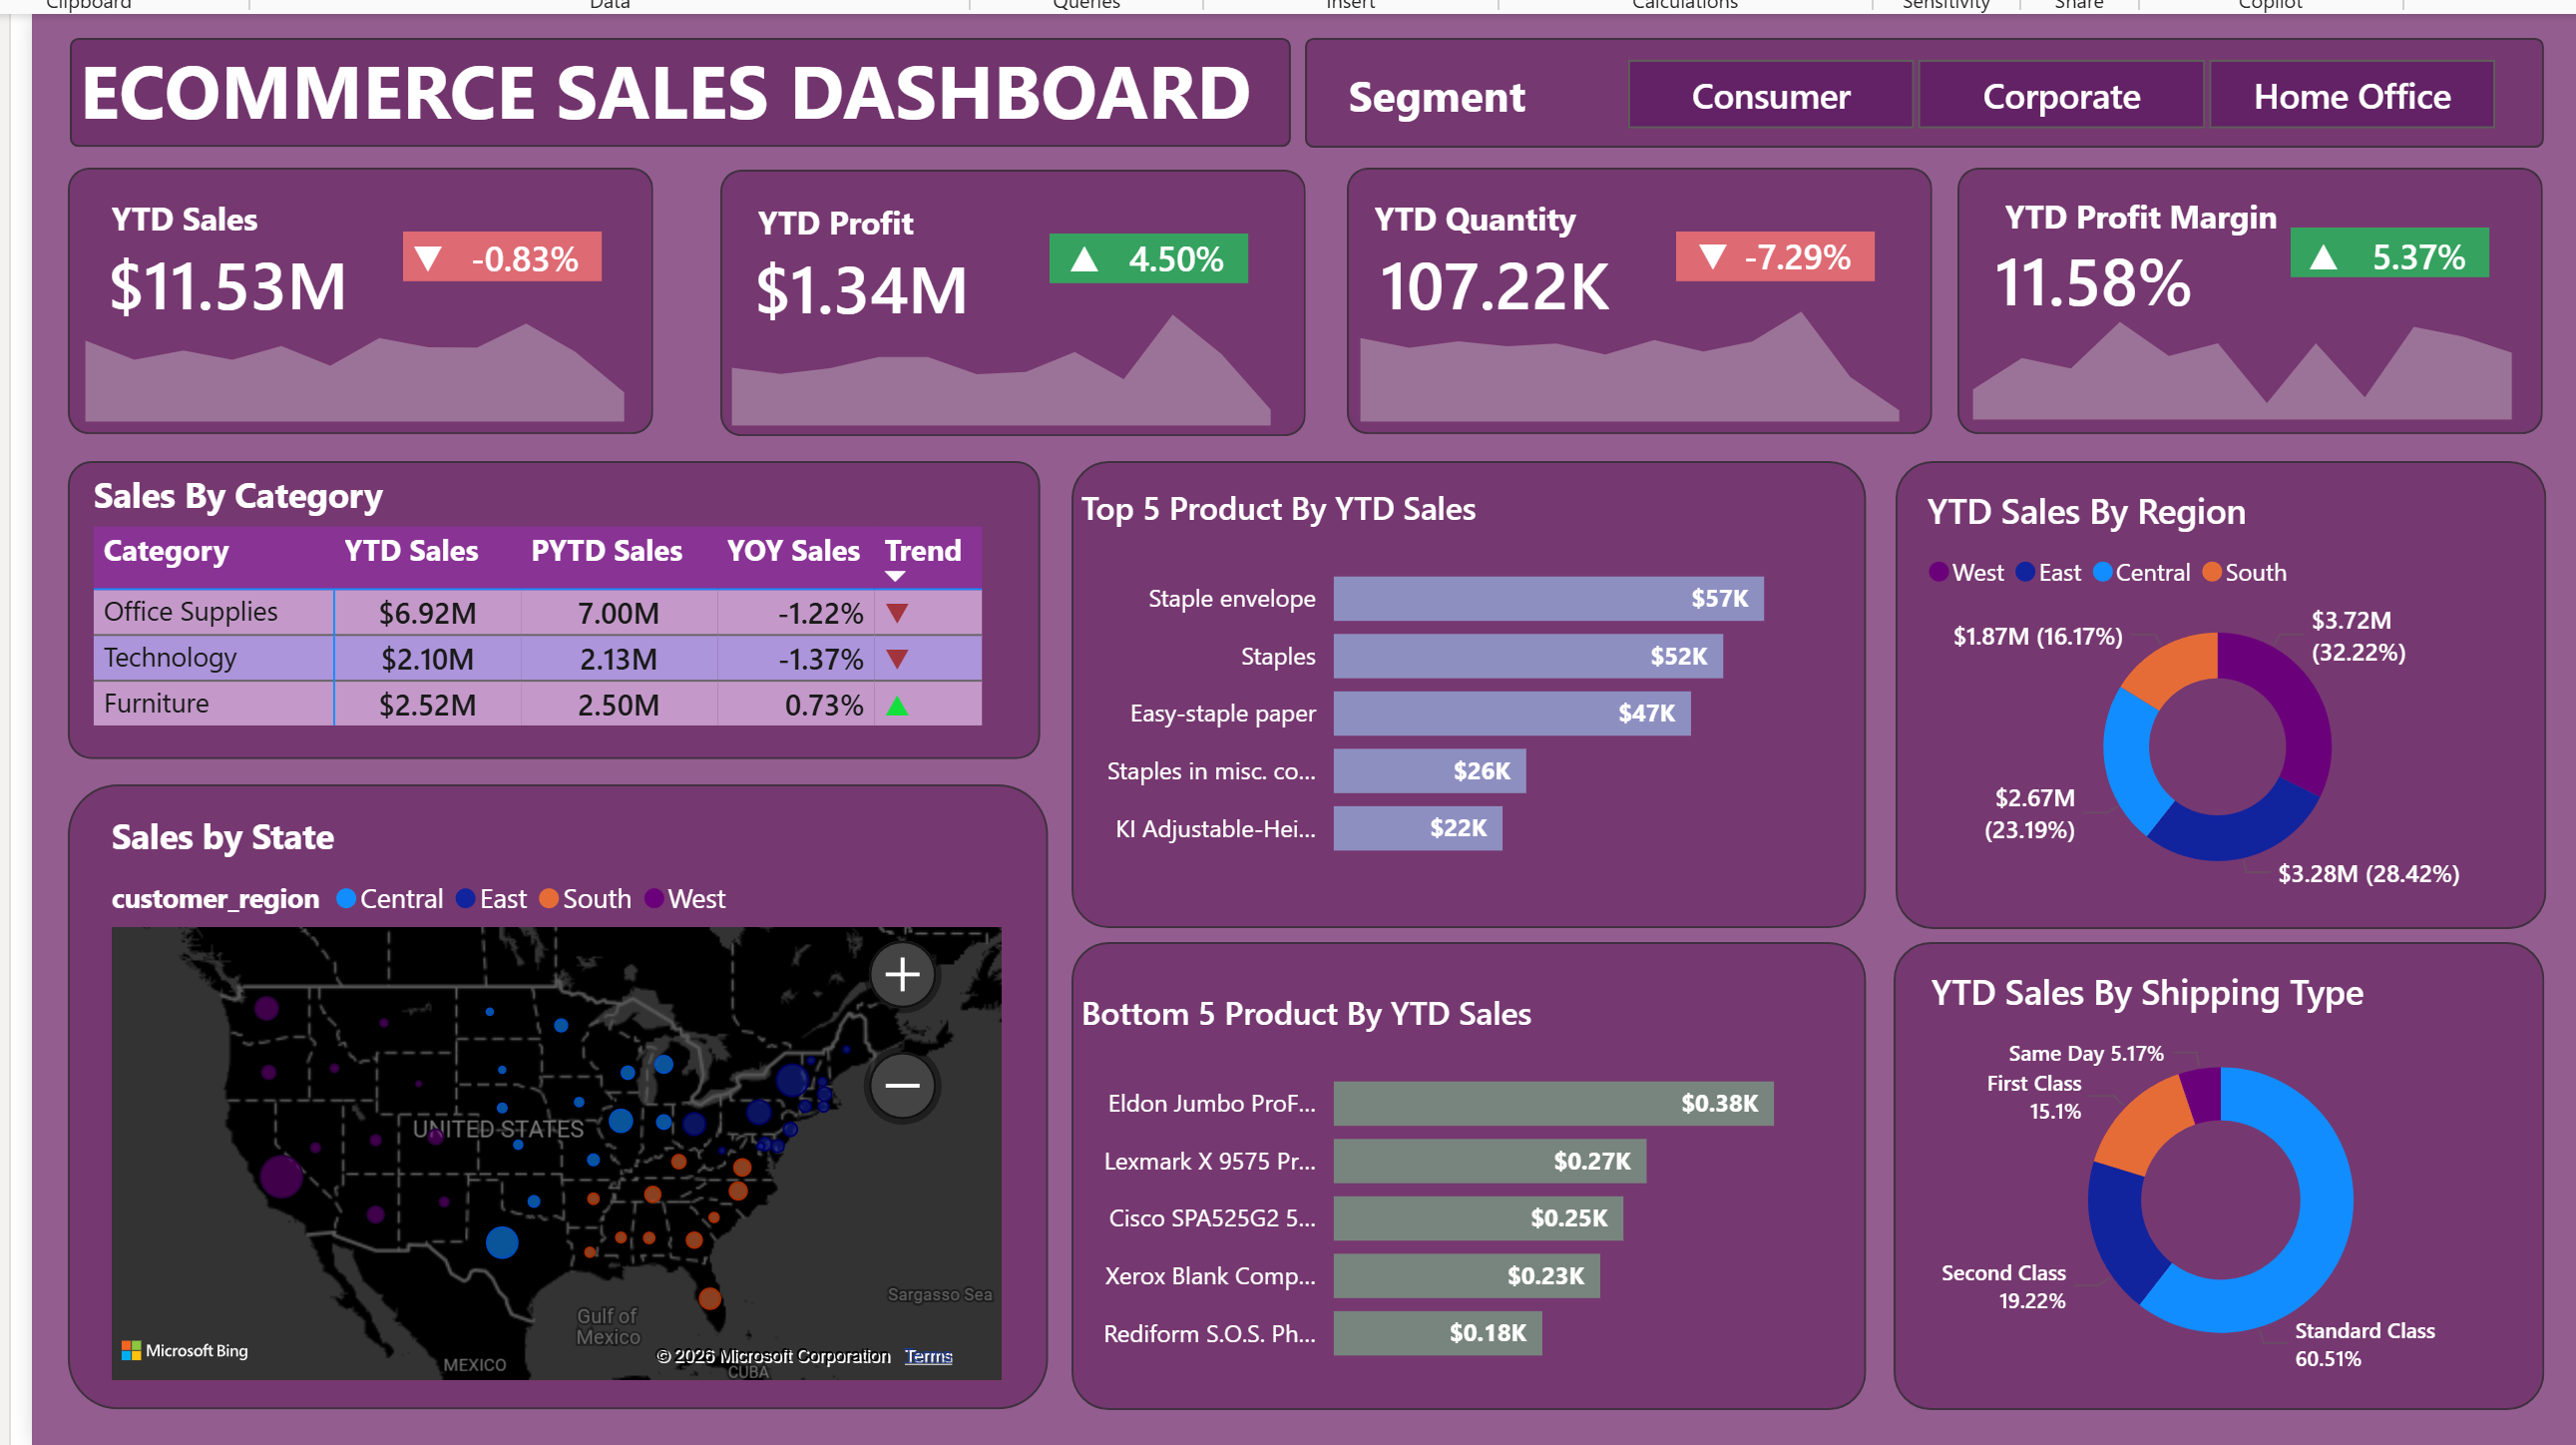

The page's visual inventory and layout, read from the dashboard file:
{"tool":"powerbi","page":{"name":"Ecommerce sales","canvas":[1280,720],"ordinal":0},"visuals":[{"type":"shape","box":[18.7,11.8,614.5,54.8],"z":0},{"type":"textbox","box":[18.7,6.7,614.5,59.9],"z":1000},{"type":"shape","box":[18.2,77.6,294.7,134.2],"z":2000},{"type":"shape","box":[186.6,109.2,100,25],"z":3000},{"type":"cardVisual","fields":{"Data":["ecommerce_data.YTD Sales"]},"box":[9,97.3,182.9,72.4],"z":4000},{"type":"areaChart","fields":{"Y":["ecommerce_data.Total sales"],"Category":["Date Table.Month"]},"box":[12.2,133.9,300.9,76.5],"z":5000},{"type":"cardVisual","fields":{"Data":["ecommerce_data.YOY Sales"]},"box":[191.8,93.4,114.5,56.6],"z":6000},{"type":"cardVisual","fields":{"Data":["ecommerce_data.Sales Icon"]},"box":[162.9,93.4,75,56.6],"z":7000},{"type":"textbox","box":[35.3,86.8,110.5,35.5],"z":8000},{"type":"shape","box":[346,77.9,294.7,134.2],"z":9000},{"type":"shape","box":[511.6,110.8,100,25],"z":10000},{"type":"cardVisual","fields":{"Data":["ecommerce_data.YTD Profit"]},"box":[334,99,182.9,72.4],"z":11000},{"type":"areaChart","fields":{"Y":["ecommerce_data.Profit"],"Category":["Date Table.Month"]},"box":[337.3,135.5,300.9,76.5],"z":12000},{"type":"cardVisual","fields":{"Data":["ecommerce_data.YOY Profit"]},"box":[523.6,93.4,114.5,56.6],"z":13000},{"type":"cardVisual","fields":{"Data":["ecommerce_data.Profit Icon"]},"box":[493.3,93.4,75,56.6],"z":14000},{"type":"textbox","box":[360.3,88.5,110.5,35.5],"z":15000},{"type":"shape","box":[661.7,77.6,294.7,134.2],"z":16000},{"type":"shape","box":[827.6,109.2,100,25],"z":17000},{"type":"cardVisual","fields":{"Data":["ecommerce_data.YTD QTY"]},"box":[650.1,97.3,182.9,72.4],"z":18000},{"type":"areaChart","fields":{"Y":["ecommerce_data.Total QTY"],"Category":["Date Table.Month"]},"box":[653.3,133.8,300.9,76.5],"z":19000},{"type":"cardVisual","fields":{"Data":["ecommerce_data.YOY QTY"]},"box":[832.7,92.1,114.5,56.6],"z":20000},{"type":"cardVisual","fields":{"Data":["ecommerce_data.QTY Icon"]},"box":[809,92.1,75,56.6],"z":21000},{"type":"textbox","box":[670.9,86.8,118.4,34.2],"z":22000},{"type":"shape","box":[969.5,77.6,294.7,134.2],"z":23000},{"type":"shape","box":[1136.8,107.5,100,25],"z":24000},{"type":"cardVisual","fields":{"Data":["ecommerce_data.YTD Profit Margin"]},"box":[959.2,95.7,182.9,72.4],"z":25000},{"type":"areaChart","fields":{"Y":["ecommerce_data.Profit Margin"],"Category":["Date Table.Month"]},"box":[962.4,132.2,300.9,76.5],"z":26000},{"type":"cardVisual","fields":{"Data":["ecommerce_data.YOY Profit Margin"]},"box":[1148.4,92.1,115.8,56.6],"z":27000},{"type":"cardVisual","fields":{"Data":["ecommerce_data.Profit Margin Icon"]},"box":[1116.9,92.1,75,56.6],"z":28000},{"type":"textbox","box":[988,85.5,153.9,34.2],"z":29000},{"type":"shape","box":[18.4,225,489.4,150],"z":30000},{"type":"pivotTable","title":"Sales By Category","fields":{"Rows":["ecommerce_data.category_name"],"Values":["ecommerce_data.YTD Sales","ecommerce_data.PYTD Sales","ecommerce_data.YOY Sales","ecommerce_data.Sales Icon"]},"box":[26.3,230.2,481.5,144.7],"z":31000},{"type":"shape","box":[18.4,388.1,493.3,314.4],"z":32000},{"type":"map","title":" Sales by State","fields":{"Y":["us_state_long_lat_codes.latitude"],"X":["us_state_long_lat_codes.longitude"],"Size":["ecommerce_data.YTD Sales"],"Series":["ecommerce_data.customer_region"]},"box":[35.5,401.2,457.8,290.7],"z":33000},{"type":"shape","box":[523.6,225,399.9,235],"z":34000},{"type":"shape","box":[523.6,467,399.9,235.5],"z":35000},{"type":"barChart","title":"Top 5 Product By YTD Sales ","fields":{"Category":["ecommerce_data.product_name"],"Y":["ecommerce_data.YTD Sales"]},"box":[523.6,236.8,399.9,201.3],"z":36000},{"type":"barChart","title":"Bottom 5 Product By YTD Sales ","fields":{"Category":["ecommerce_data.product_name"],"Y":["ecommerce_data.YTD Sales"]},"box":[523.6,490.7,399.9,201.3],"z":37000},{"type":"shape","box":[938,225,327.6,235.5],"z":38000},{"type":"shape","box":[936.6,467,327.6,235.5],"z":39000},{"type":"donutChart","title":"YTD Sales By Shipping Type","fields":{"Category":["ecommerce_data.shipping_type"],"Y":["ecommerce_data.YTD Sales"]},"box":[951.1,480.2,301.3,210.5],"z":40000},{"type":"donutChart","title":"YTD Sales By Region","fields":{"Category":["ecommerce_data.customer_region"],"Y":["ecommerce_data.YTD Sales"]},"box":[949.4,237.9,302,210.5],"z":41000},{"type":"shape","box":[640.7,11.8,623.6,55.3],"z":42000},{"type":"slicer","fields":{"Values":["ecommerce_data.customer_segment"]},"box":[777.5,15.8,486.7,48.7],"z":43000},{"type":"textbox","box":[657.8,21,144.7,43.4],"z":44000}]}

Visuals, with their boxes on the page's 1280x720 design canvas (x1, y1, x2, y2). These are canvas units, not pixel positions in the 2576x1445 screenshot, which may show the page scaled, cropped or inside an application window:
shape: [left=19, top=12, right=633, bottom=67]
textbox: [left=19, top=7, right=633, bottom=67]
shape: [left=18, top=78, right=313, bottom=212]
shape: [left=187, top=109, right=287, bottom=134]
cardVisual - ecommerce_data.YTD Sales: [left=9, top=97, right=192, bottom=170]
areaChart - ecommerce_data.Total sales x Date Table.Month: [left=12, top=134, right=313, bottom=210]
cardVisual - ecommerce_data.YOY Sales: [left=192, top=93, right=306, bottom=150]
cardVisual - ecommerce_data.Sales Icon: [left=163, top=93, right=238, bottom=150]
textbox: [left=35, top=87, right=146, bottom=122]
shape: [left=346, top=78, right=641, bottom=212]
shape: [left=512, top=111, right=612, bottom=136]
cardVisual - ecommerce_data.YTD Profit: [left=334, top=99, right=517, bottom=171]
areaChart - ecommerce_data.Profit x Date Table.Month: [left=337, top=136, right=638, bottom=212]
cardVisual - ecommerce_data.YOY Profit: [left=524, top=93, right=638, bottom=150]
cardVisual - ecommerce_data.Profit Icon: [left=493, top=93, right=568, bottom=150]
textbox: [left=360, top=88, right=471, bottom=124]
shape: [left=662, top=78, right=956, bottom=212]
shape: [left=828, top=109, right=928, bottom=134]
cardVisual - ecommerce_data.YTD QTY: [left=650, top=97, right=833, bottom=170]
areaChart - ecommerce_data.Total QTY x Date Table.Month: [left=653, top=134, right=954, bottom=210]
cardVisual - ecommerce_data.YOY QTY: [left=833, top=92, right=947, bottom=149]
cardVisual - ecommerce_data.QTY Icon: [left=809, top=92, right=884, bottom=149]
textbox: [left=671, top=87, right=789, bottom=121]
shape: [left=970, top=78, right=1264, bottom=212]
shape: [left=1137, top=108, right=1237, bottom=132]
cardVisual - ecommerce_data.YTD Profit Margin: [left=959, top=96, right=1142, bottom=168]
areaChart - ecommerce_data.Profit Margin x Date Table.Month: [left=962, top=132, right=1263, bottom=209]
cardVisual - ecommerce_data.YOY Profit Margin: [left=1148, top=92, right=1264, bottom=149]
cardVisual - ecommerce_data.Profit Margin Icon: [left=1117, top=92, right=1192, bottom=149]
textbox: [left=988, top=86, right=1142, bottom=120]
shape: [left=18, top=225, right=508, bottom=375]
"Sales By Category" pivotTable: [left=26, top=230, right=508, bottom=375]
shape: [left=18, top=388, right=512, bottom=702]
" Sales by State" map: [left=36, top=401, right=493, bottom=692]
shape: [left=524, top=225, right=924, bottom=460]
shape: [left=524, top=467, right=924, bottom=702]
"Top 5 Product By YTD Sales " barChart: [left=524, top=237, right=924, bottom=438]
"Bottom 5 Product By YTD Sales " barChart: [left=524, top=491, right=924, bottom=692]
shape: [left=938, top=225, right=1266, bottom=460]
shape: [left=937, top=467, right=1264, bottom=702]
"YTD Sales By Shipping Type" donutChart: [left=951, top=480, right=1252, bottom=691]
"YTD Sales By Region" donutChart: [left=949, top=238, right=1251, bottom=448]
shape: [left=641, top=12, right=1264, bottom=67]
slicer - ecommerce_data.customer_segment: [left=778, top=16, right=1264, bottom=64]
textbox: [left=658, top=21, right=802, bottom=64]
